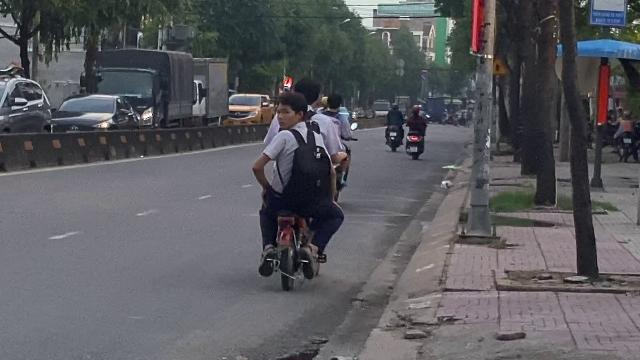motorcyclist: (249, 75, 353, 297)
nohelmet: (276, 89, 308, 128), (292, 78, 322, 106)
